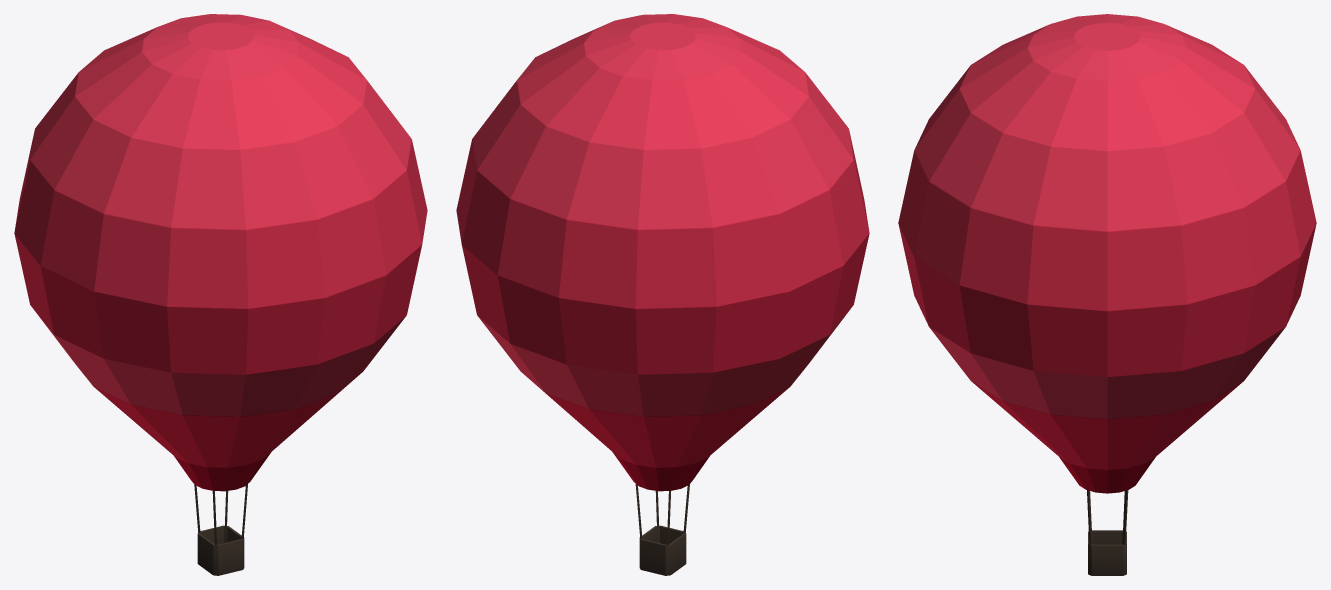
The model's file is prop_baloon_A.FBX.
3 renders of one model, left to right at view 1: azimuth 30°, elevation 25°; view 2: azimuth 150°, elevation 25°; view 3: azimuth 270°, elevation 25°, orthographic.
Parts seen in each view (by area): view 1: prop_baloon_A; view 2: prop_baloon_A; view 3: prop_baloon_A.
Boxes of the visible parts, x1,y1,x2,y2 form: prop_baloon_A: [14, 14, 427, 575]; prop_baloon_A: [456, 14, 869, 575]; prop_baloon_A: [898, 14, 1316, 575].
Bounding box in the file's own units: 591 × 828 × 591.
Materials: 1 (1 with a texture image).
